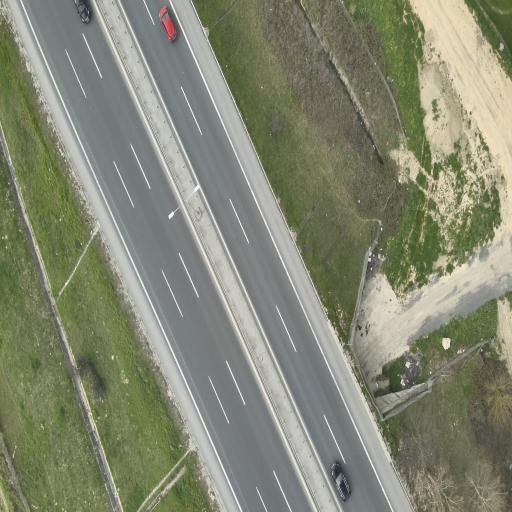car: (331, 462, 351, 502), (159, 7, 177, 42), (75, 0, 90, 23)
